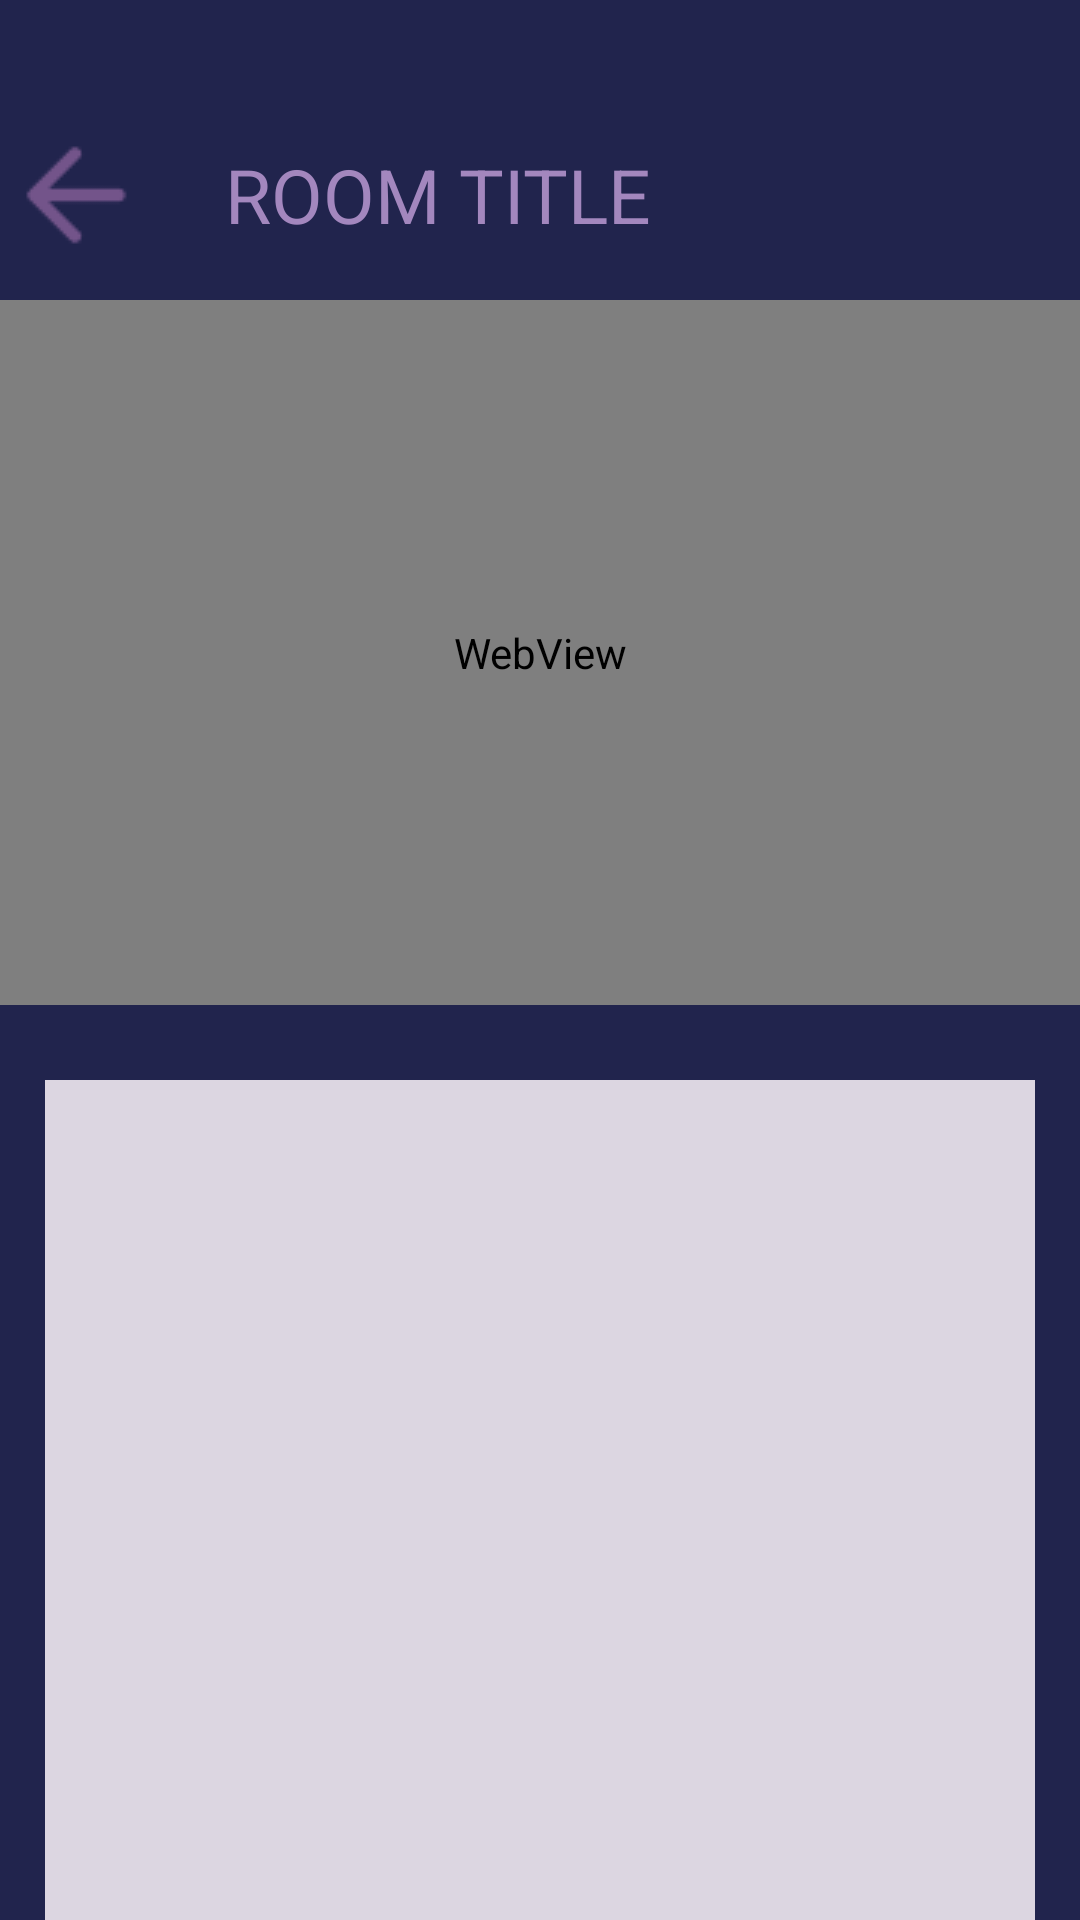

Locate icon controls on the screen. Image size 1080 x 1920, boxes as (x1, y1, x2, y2).
back: (27, 147, 126, 243)
